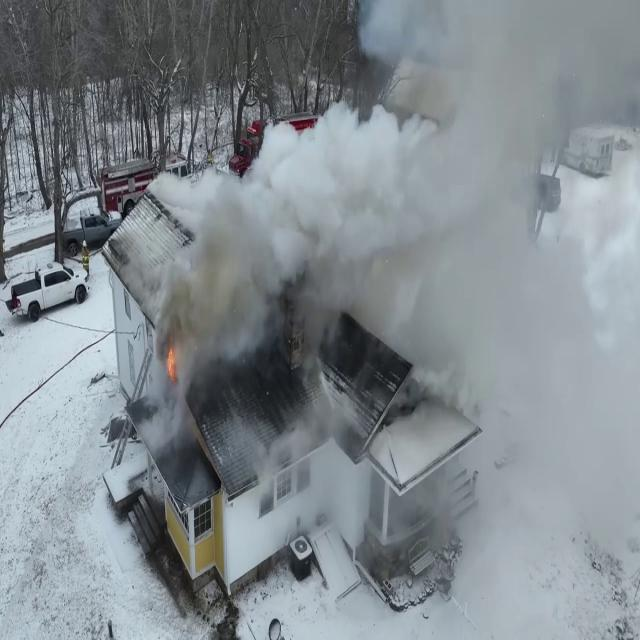Smoke: (152, 0, 634, 448)
